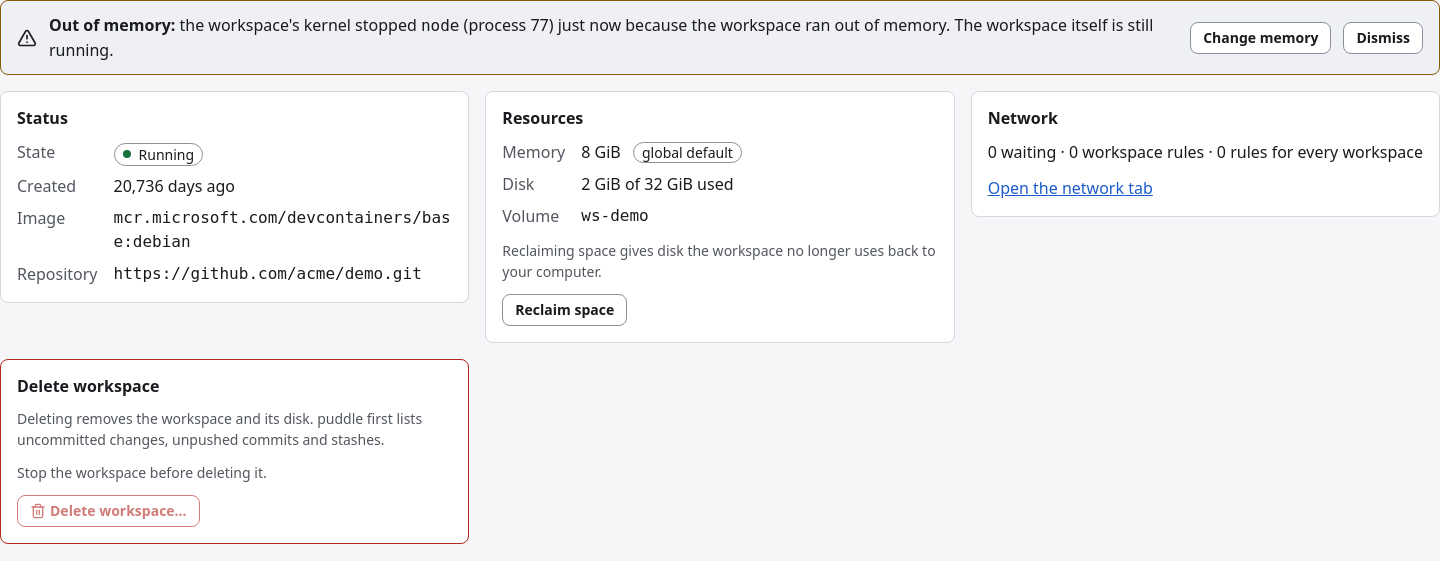
Test case: the overview › shows an out-of-memory notice that can be dismissed
Check: the text "ws-demo" is shown, box [581,206,649,225]
Check: the message shows "Out of memory", box [49,14,175,36]
Step 1. Click the button "Dismiss" → (1383, 38), box [1344,22,1423,54]
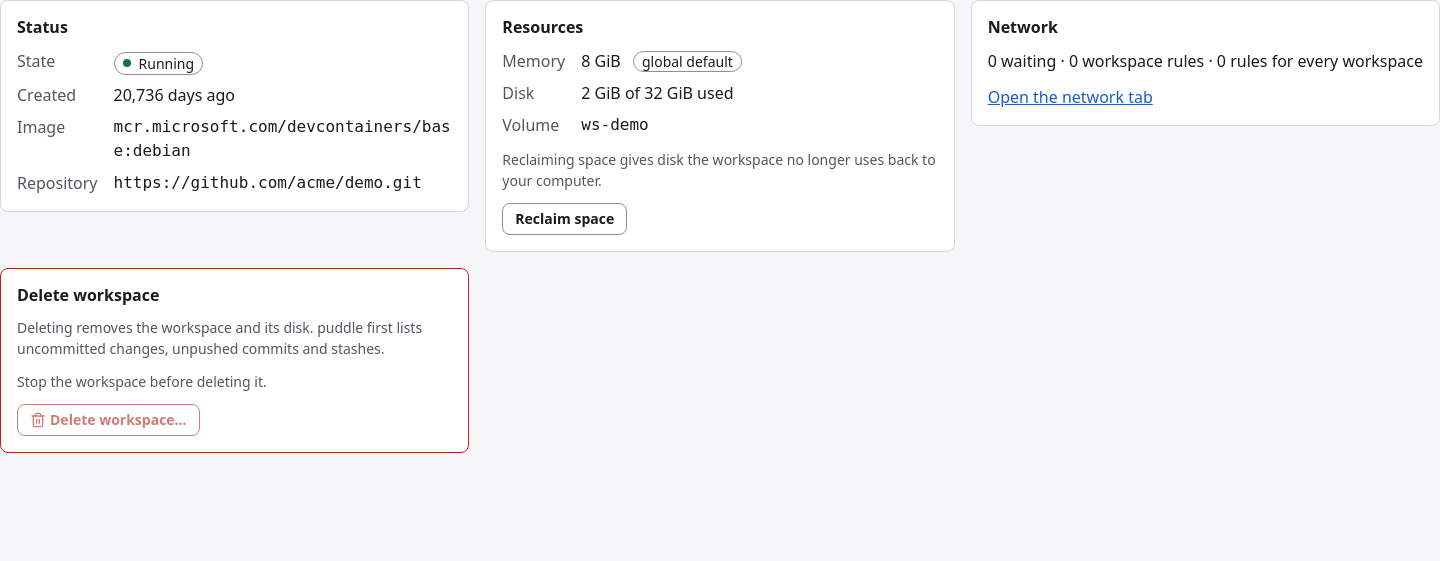
Check: the message is gone
